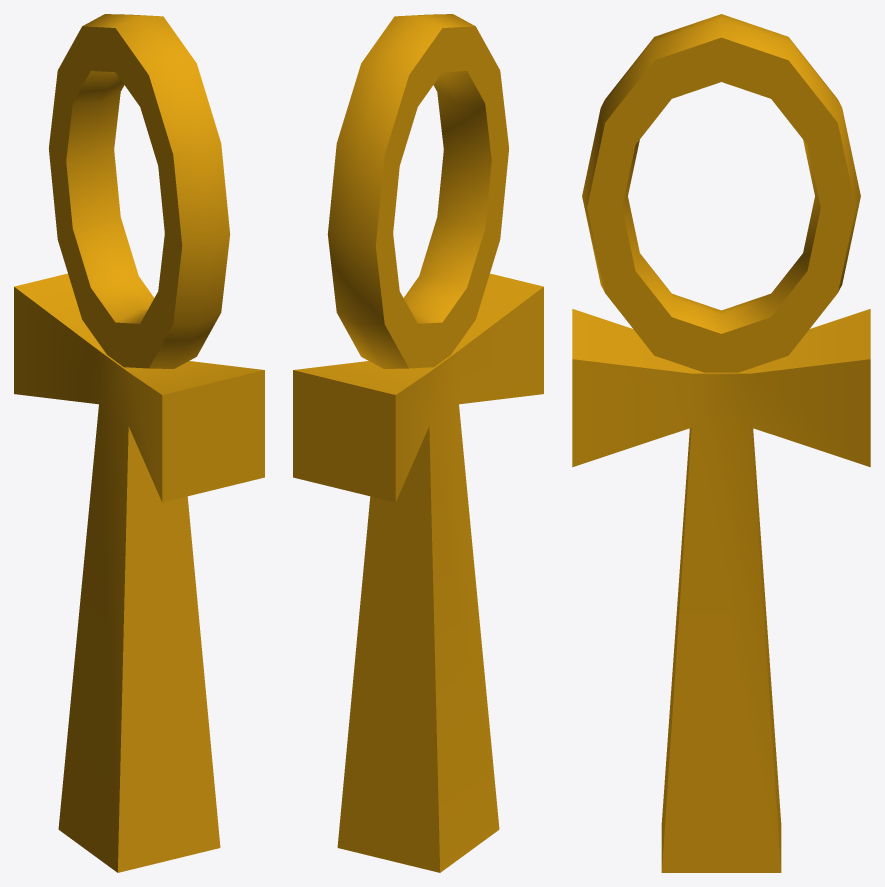
Rendered from ankh.fbx.
3 views of the same model, side by side, from view 1: azimuth 30°, elevation 25°; view 2: azimuth 150°, elevation 25°; view 3: azimuth 270°, elevation 25° (orthographic).
Visible parts, largest first — view 1: Cube; view 2: Cube; view 3: Cube.
Part boxes in pixels (box(x1,y1,x2,y2)): Cube: box(14, 14, 264, 872); Cube: box(293, 14, 543, 872); Cube: box(572, 14, 870, 872).
Bounding box in the file's own units: 20 × 153 × 50.
